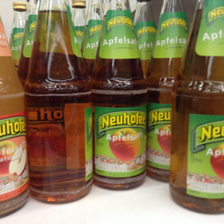juice: (26, 1, 94, 205), (166, 1, 222, 216), (89, 1, 149, 190)
